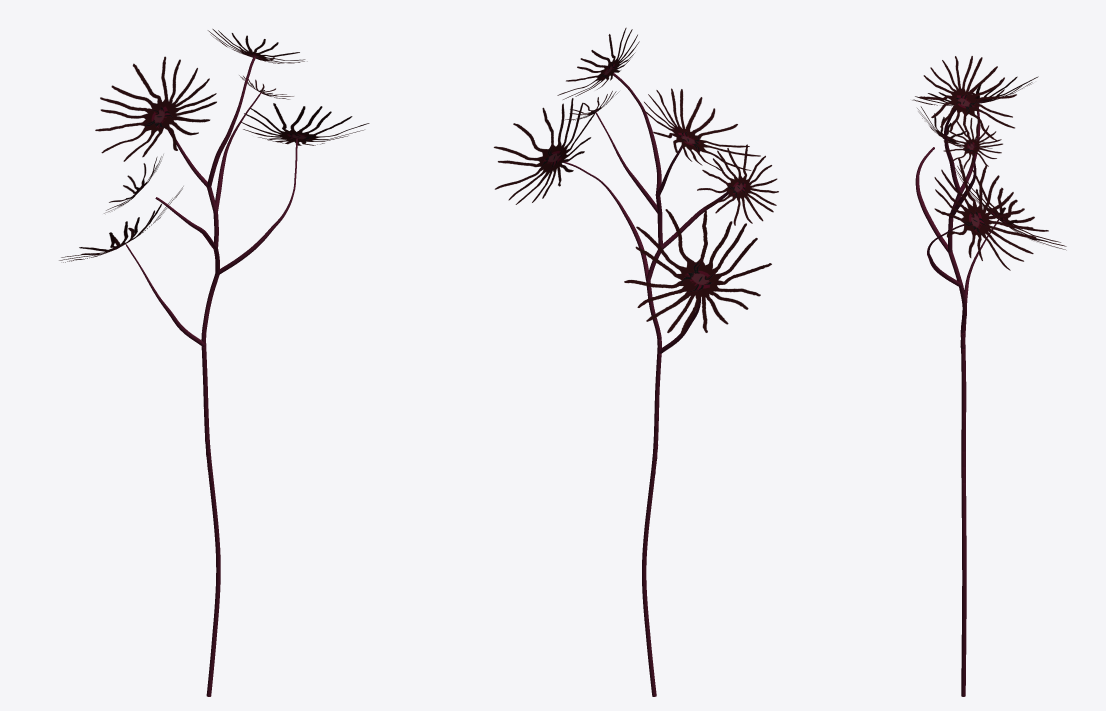
Rendered from dark-flower.glb.
The picture shows the model from 3 angles, left to right: view 1: azimuth 30°, elevation 25°; view 2: azimuth 150°, elevation 25°; view 3: azimuth 270°, elevation 25°; orthographic projection. The views are drawn at different scales.
Parts seen in each view (by area): view 1: Fleur_leaf_3, Fleur_branch_1, Fleur_leaf_2, Fleur_branch_4, Fleur_leaf_1, Fleur_leaf_4; view 2: Fleur_leaf_1, Fleur_branch_1, Fleur_leaf_2, Fleur_leaf_3, Fleur_leaf_5, Fleur_leaf_4, Fleur_branch_4; view 3: Fleur_branch_1, Fleur_leaf_2, Fleur_leaf_4, Fleur_leaf_6, Fleur_leaf_1, Fleur_branch_4, Fleur_leaf_3.
Boxes of the visible parts, <box> form: Fleur_leaf_3: <box>95,56,216,161</box>; Fleur_branch_1: <box>155,197,220,696</box>; Fleur_leaf_2: <box>241,103,369,145</box>; Fleur_branch_4: <box>207,56,255,247</box>; Fleur_leaf_1: <box>59,186,183,262</box>; Fleur_leaf_4: <box>207,29,307,63</box>; Fleur_leaf_1: <box>624,209,771,335</box>; Fleur_branch_1: <box>642,191,729,696</box>; Fleur_leaf_2: <box>493,98,595,204</box>; Fleur_leaf_3: <box>643,88,760,172</box>; Fleur_leaf_5: <box>697,144,778,225</box>; Fleur_leaf_4: <box>557,27,639,99</box>; Fleur_branch_4: <box>609,70,662,247</box>; Fleur_branch_1: <box>915,147,966,696</box>; Fleur_leaf_2: <box>934,158,1036,270</box>; Fleur_leaf_4: <box>919,56,1016,140</box>; Fleur_leaf_6: <box>942,118,1002,168</box>; Fleur_leaf_1: <box>955,166,1066,250</box>; Fleur_branch_4: <box>944,101,964,252</box>; Fleur_leaf_3: <box>912,76,1038,106</box>.
Bounding box in the file's own units: 0.2767 × 0.5333 × 0.1707.
Materials: 2 (1 with a texture image).
